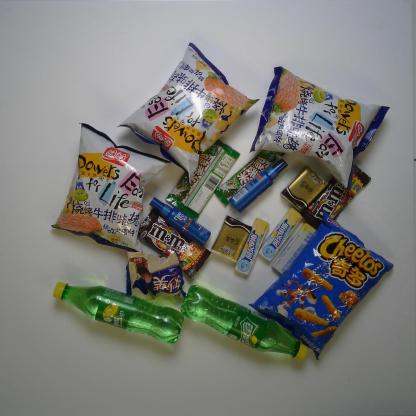Candy: (256, 204, 303, 262), (271, 221, 320, 276), (233, 217, 270, 276)
Chocolate: (132, 205, 212, 280), (298, 160, 374, 233), (211, 137, 288, 209), (179, 140, 241, 223), (163, 132, 228, 211)
Dessert: (124, 246, 189, 306)
Drink: (178, 284, 308, 362), (50, 279, 184, 345)
Personal Hygiene: (146, 192, 212, 247), (227, 158, 289, 214)
Puffed Food: (247, 209, 396, 362), (113, 36, 260, 189), (248, 64, 395, 194), (51, 119, 172, 256)
Tissue: (279, 164, 330, 213), (209, 214, 253, 265)
